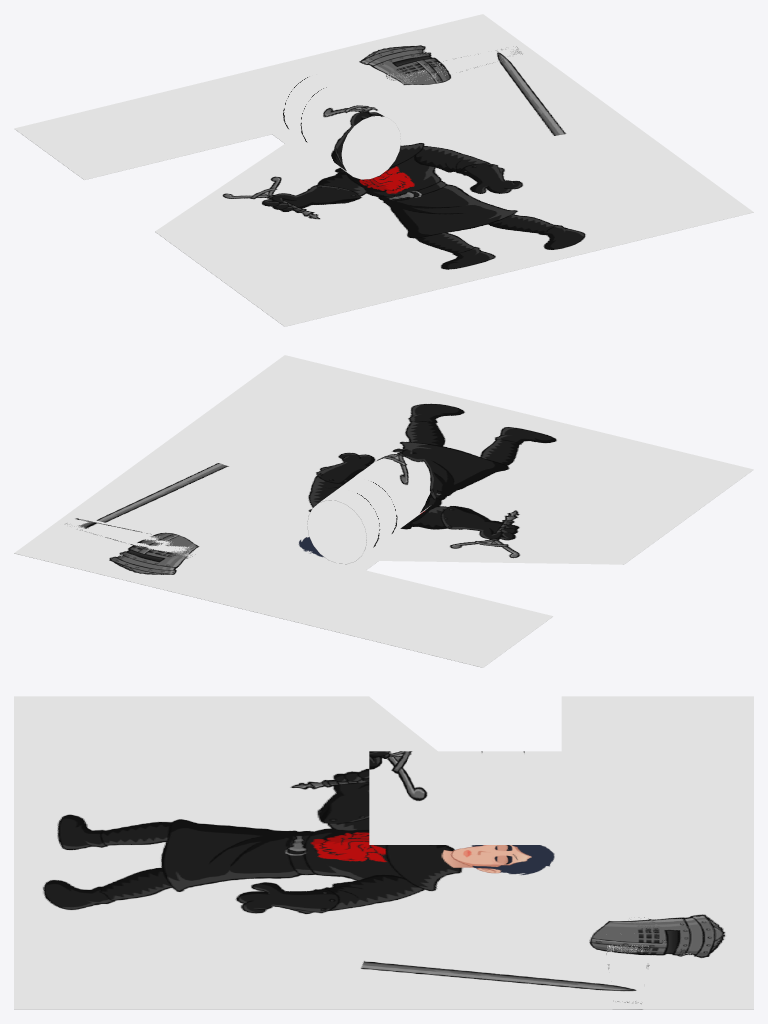
Rendered from Level 5.fbx.
The picture shows the model from 3 angles, top to bottom: view 1: azimuth 30°, elevation 25°; view 2: azimuth 150°, elevation 25°; view 3: azimuth 270°, elevation 25°; orthographic projection. The views are drawn at different scales.
Parts seen in each view (by area): view 1: mesh, mainmash, mainmash2, mainmash1; view 2: mesh, mainmash, mainmash2, mainmash1; view 3: mesh, mainmash, mainmash1, mainmash2.
Boxes of the visible parts, x1,y1,x2,y2 form: mesh: (14,14,753,326); mainmash: (271,64,400,179); mainmash2: (348,30,594,134); mainmash1: (464,233,601,279); mesh: (14,355,753,667); mainmash: (307,448,437,564); mainmash2: (36,470,282,575); mainmash1: (415,392,560,437); mesh: (14,696,753,1009); mainmash: (369,751,561,844); mainmash1: (14,824,73,907); mainmash2: (443,907,694,1009).
Bounding box in the file's own units: 2400 × 307 × 2400.
